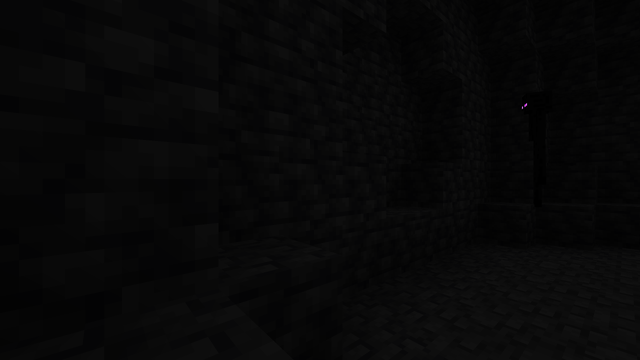endermens: (518, 85, 553, 205)
